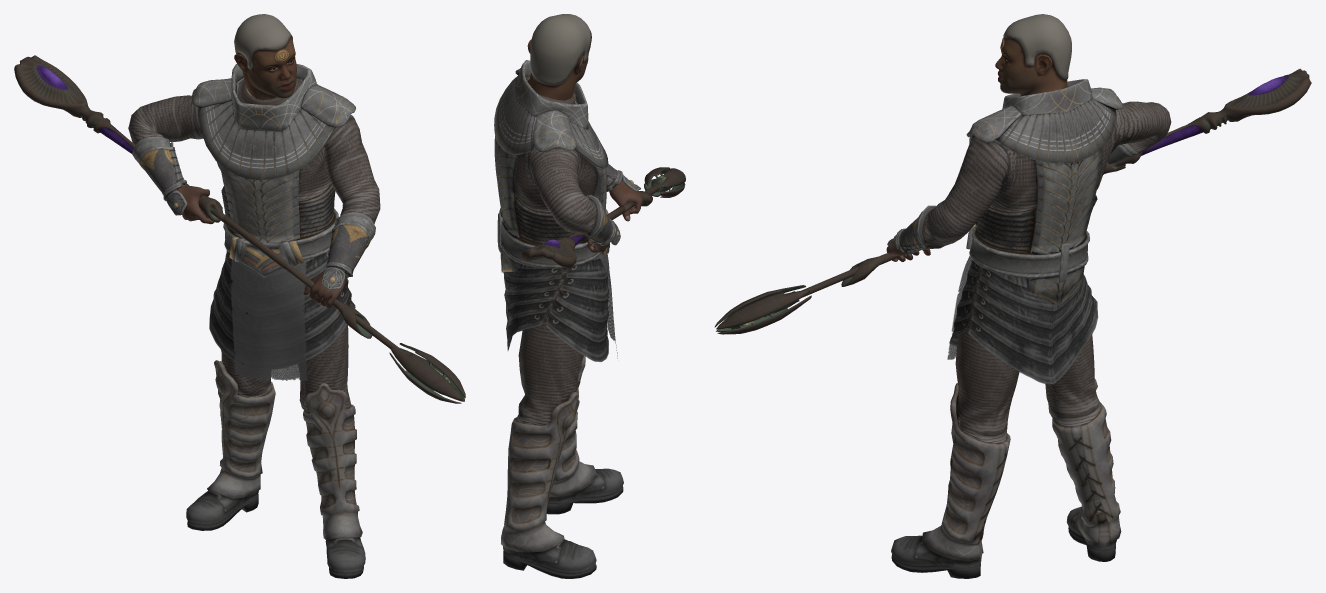
The model's file is tealc.glb.
3 views of the same model, side by side, from view 1: azimuth 30°, elevation 25°; view 2: azimuth 150°, elevation 25°; view 3: azimuth 270°, elevation 25° (orthographic). The views are drawn at different scales.
Parts seen in each view (by area): view 1: Tealc_Body, Tealc_Skirt, Circle.000, Tealc_Head; view 2: Tealc_Body, Tealc_Skirt, Tealc_Head, Circle.000; view 3: Tealc_Body, Tealc_Skirt, Circle.000, Tealc_Head.
Boxes of the visible parts, x1,y1,x2,y2 form: Tealc_Body: (128, 64, 380, 578); Tealc_Skirt: (209, 250, 355, 380); Circle.000: (14, 55, 465, 403); Tealc_Head: (234, 14, 296, 100); Tealc_Body: (494, 60, 643, 578); Tealc_Skirt: (503, 253, 617, 361); Tealc_Head: (527, 14, 591, 100); Circle.000: (521, 167, 685, 268); Tealc_Body: (886, 79, 1171, 578); Tealc_Skirt: (947, 256, 1098, 384); Circle.000: (714, 68, 1311, 334); Tealc_Head: (995, 14, 1071, 95).
Bounding box in the file's own units: 0.7932 × 1.94 × 1.96.
Materials: 6 (5 with a texture image).
